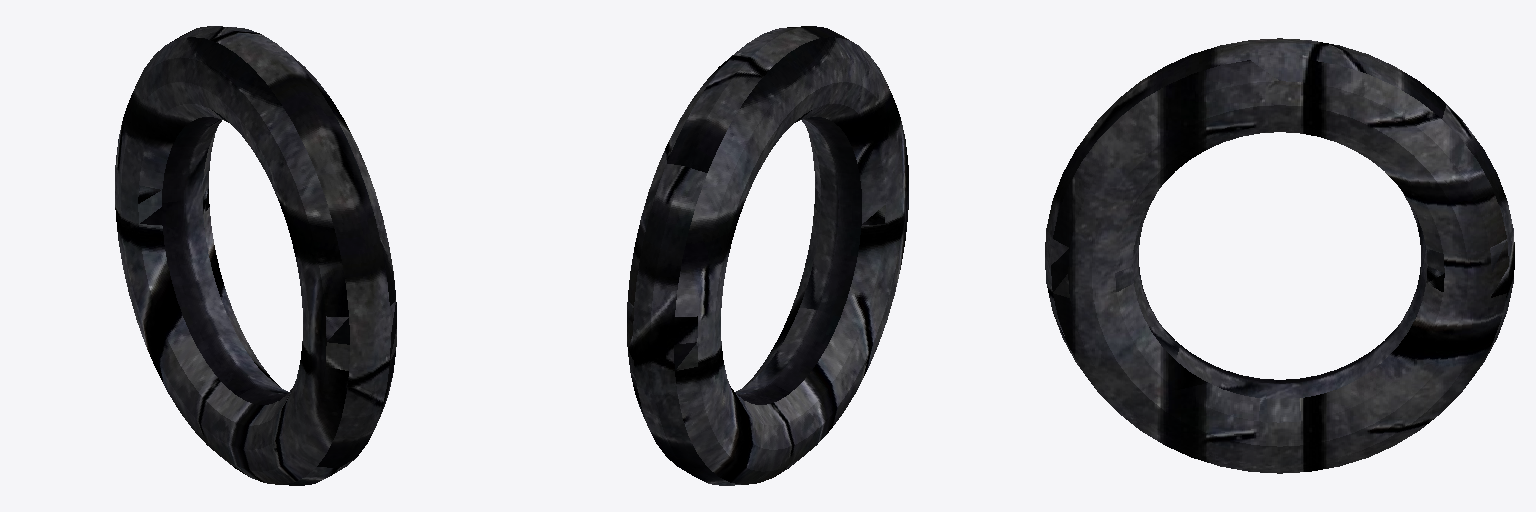
The picture shows the model from 3 angles: view 1: azimuth 30°, elevation 25°; view 2: azimuth 150°, elevation 25°; view 3: azimuth 270°, elevation 25°; orthographic projection.
Visible parts, largest first — view 1: roda; view 2: roda; view 3: roda.
Boxes of the visible parts, x1=… form: roda: x1=115, y1=26, x2=396, y2=485; roda: x1=627, y1=26, x2=908, y2=485; roda: x1=1045, y1=38, x2=1514, y2=473.
Bounding box in the file's own units: 0.3889 × 1.94 × 1.94.
1 materials, 1 textured.